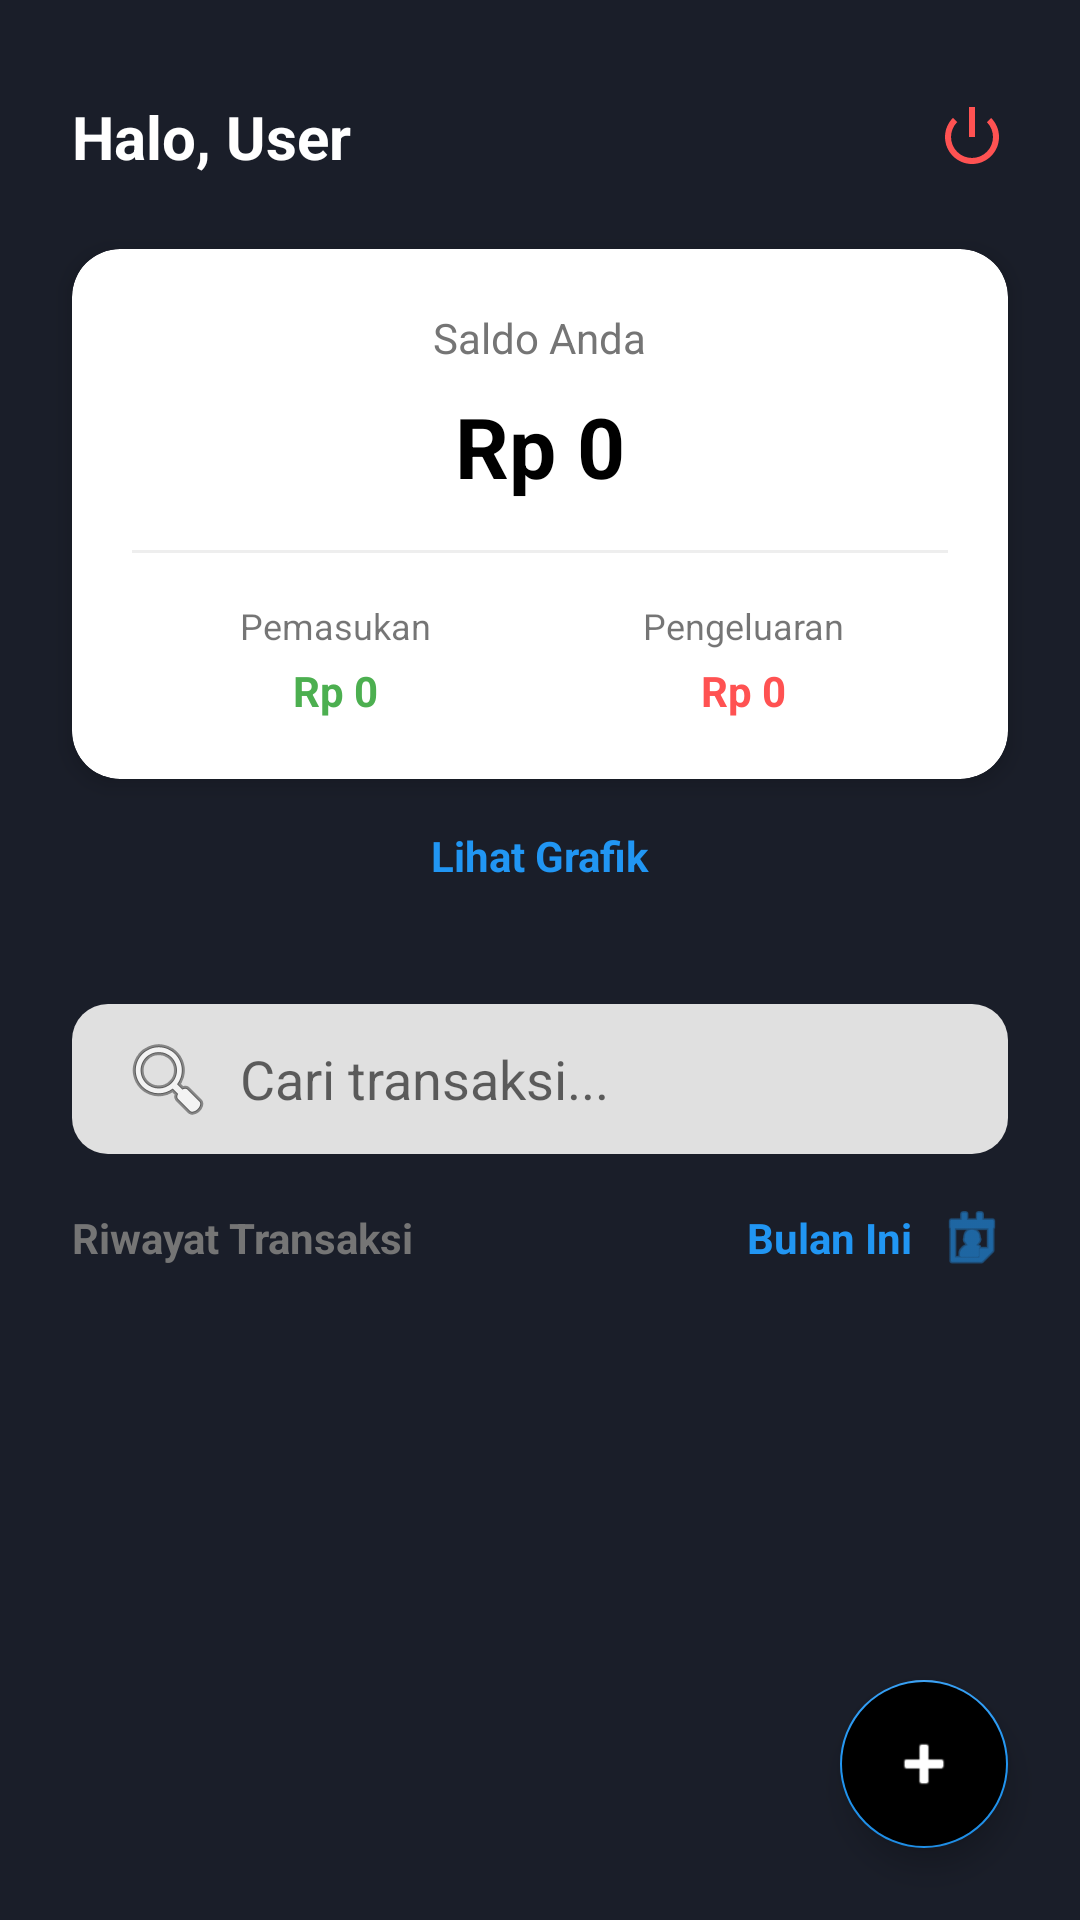

Screen size 1080px×1920px. Icon name, then its center in pixels as [x,y]:
add: [924,1764]
calendar: [972,1237]
lock power off: [972,135]
